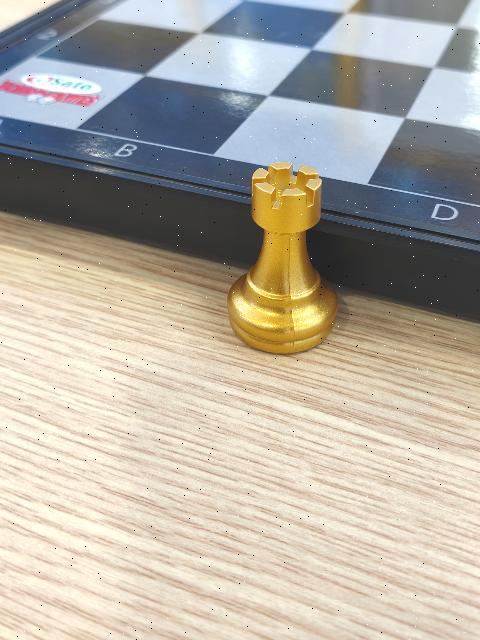black_rook: (223, 160, 344, 356)
